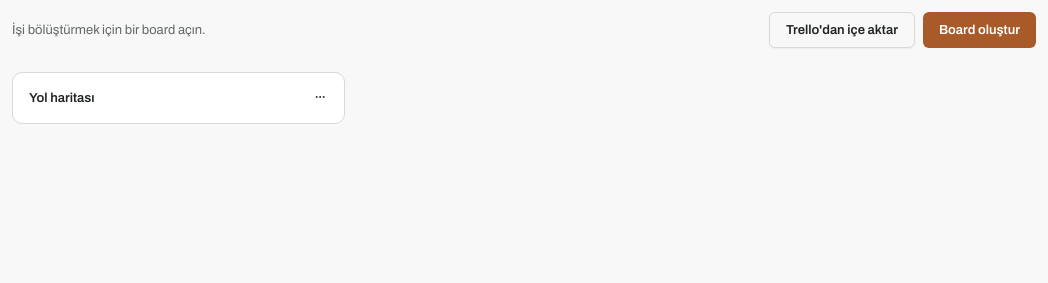
Test: the fifty longest Turkish strings › are drawn in Turkish on components/board/board-list.tsx
Press Enter in the button named "Board işlemleri", box [308,85,332,109]
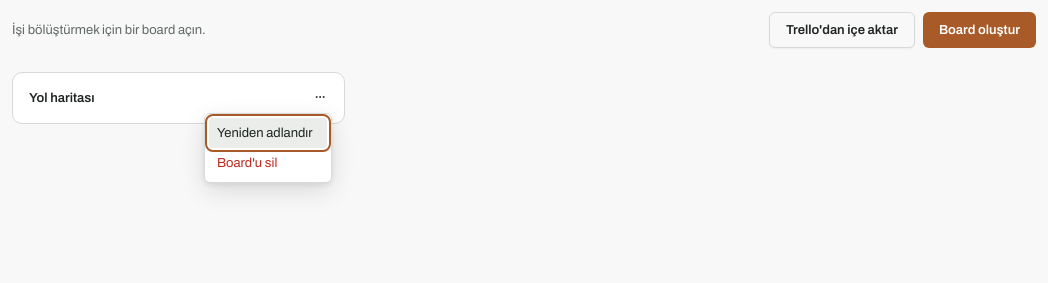
Click the menu item "Yeniden adlandır": point(268, 133) [209,118,327,148]
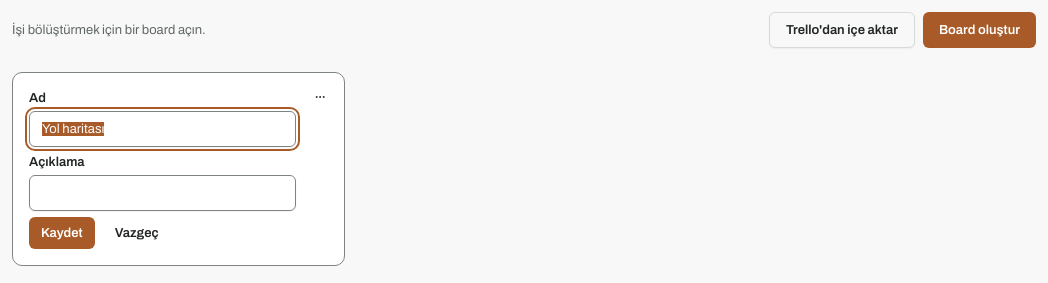
Result: the field showing "Yol haritası" is shown at [29,111,296,147]
